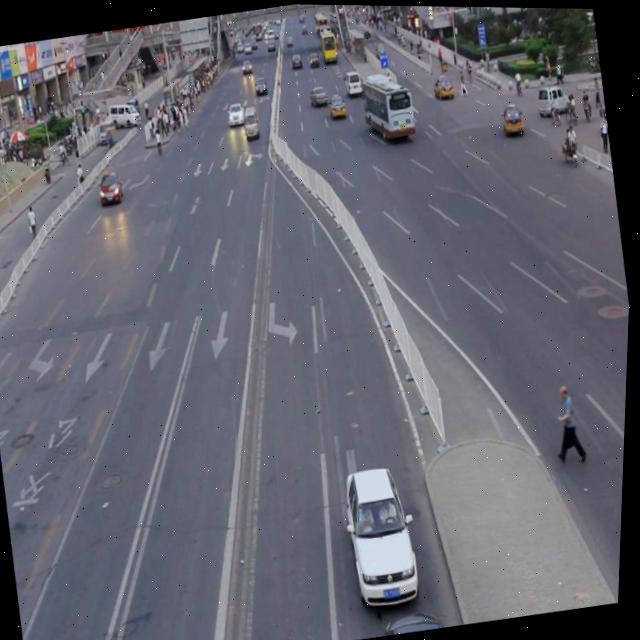car: (341, 460, 429, 609), (384, 604, 450, 635)
